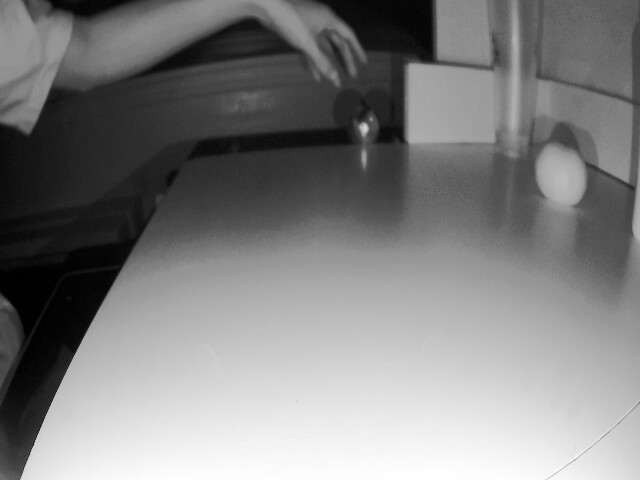silver: (348, 105, 381, 149)
